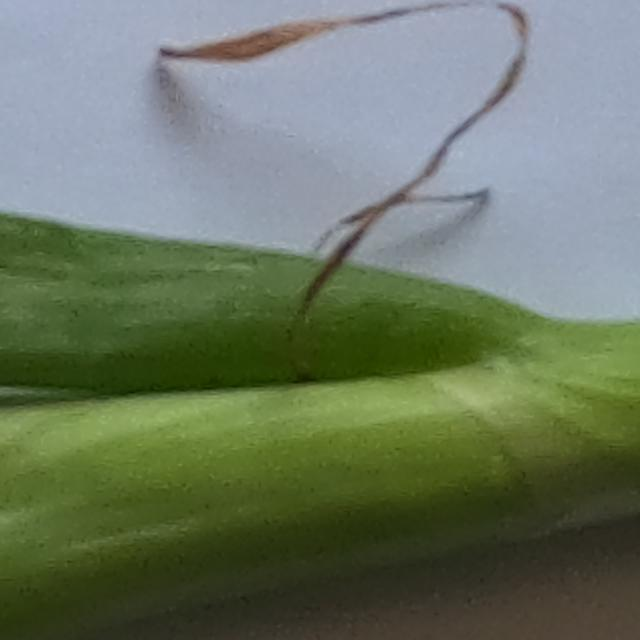green_onion: (0, 221, 640, 640)
